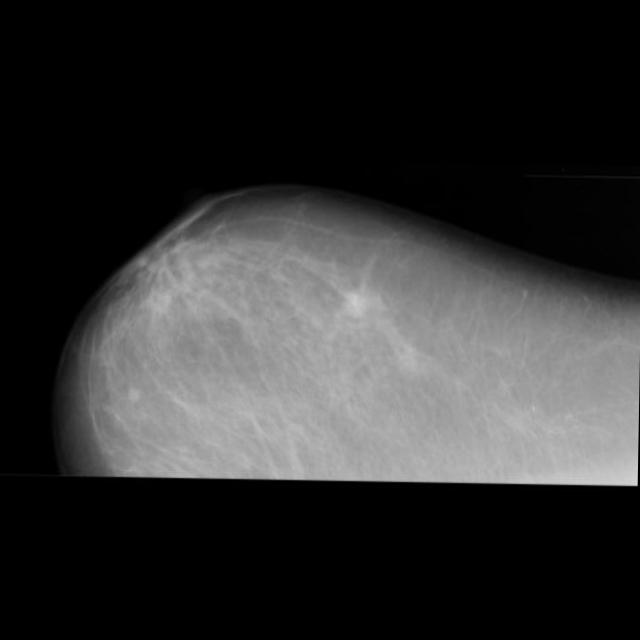ARCH: (298, 246, 410, 358)
